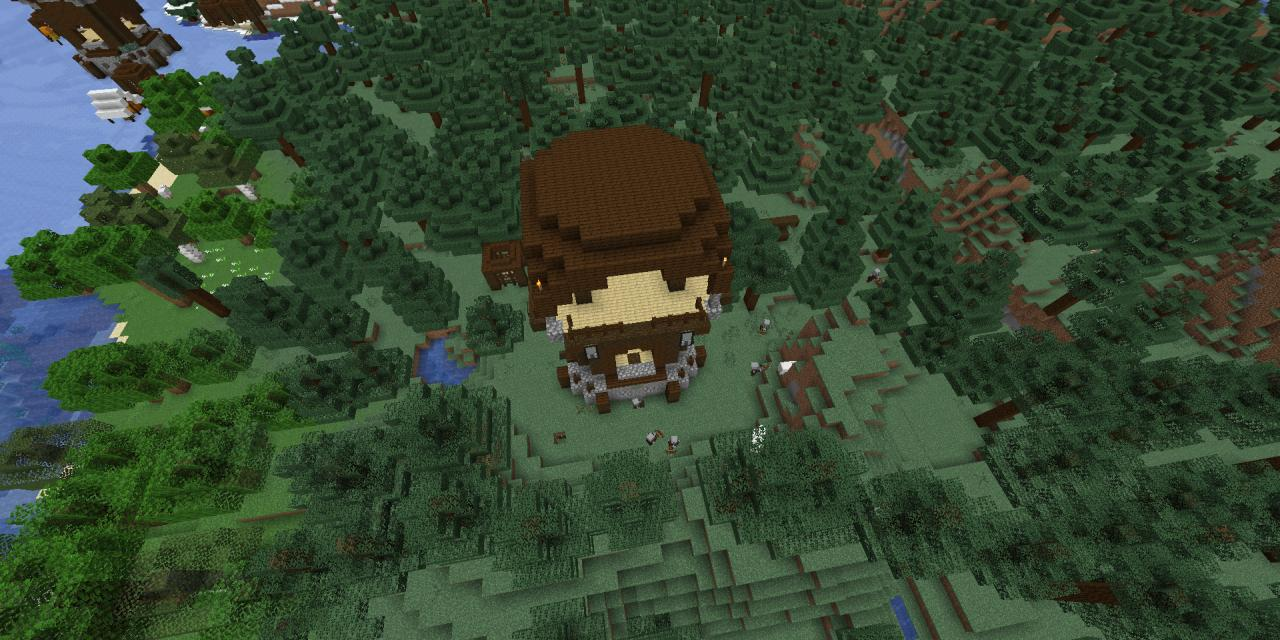pillager outpost: (499, 112, 746, 421)
